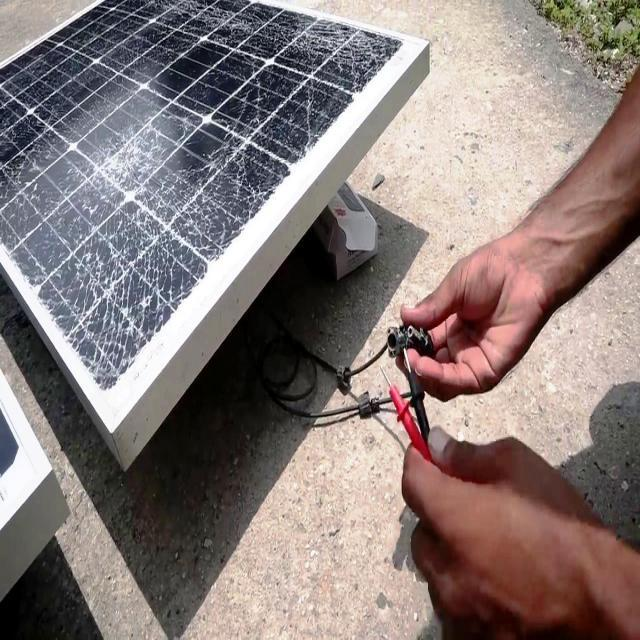faulty: (1, 1, 402, 402)
